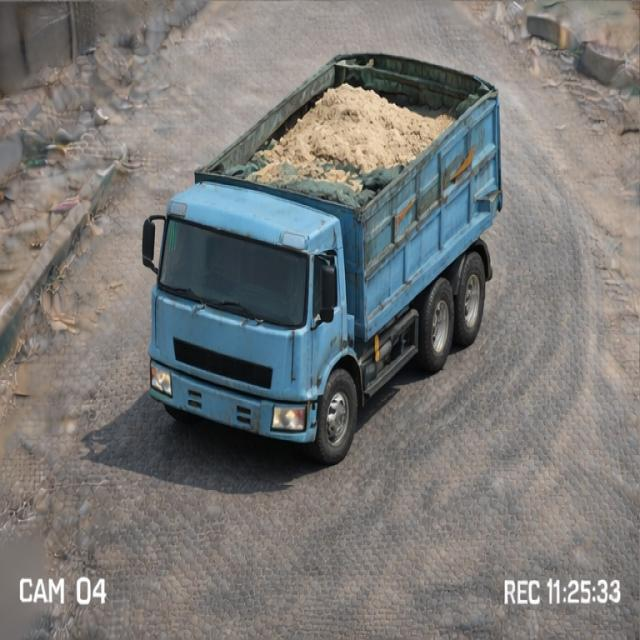trailer: (206, 52, 496, 214)
truck: (144, 34, 523, 436)
